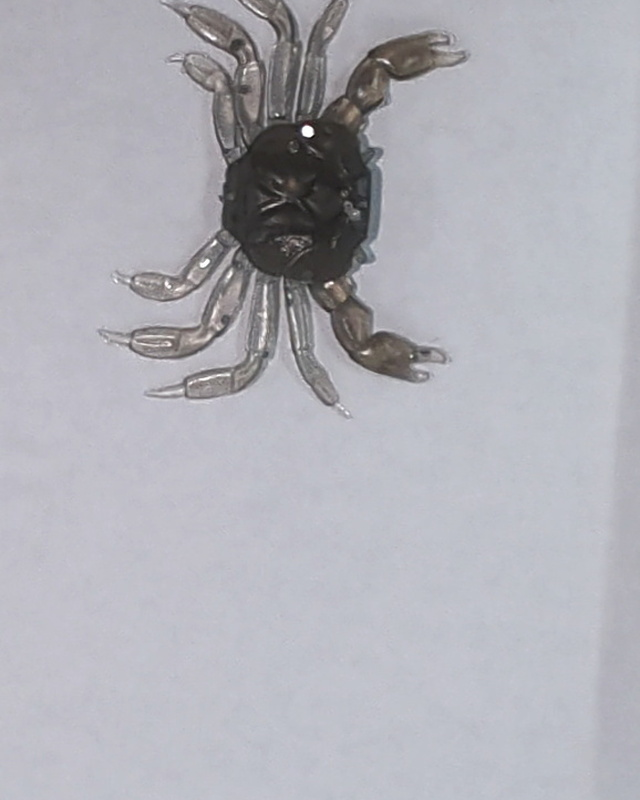crab1: (94, 2, 479, 421)
